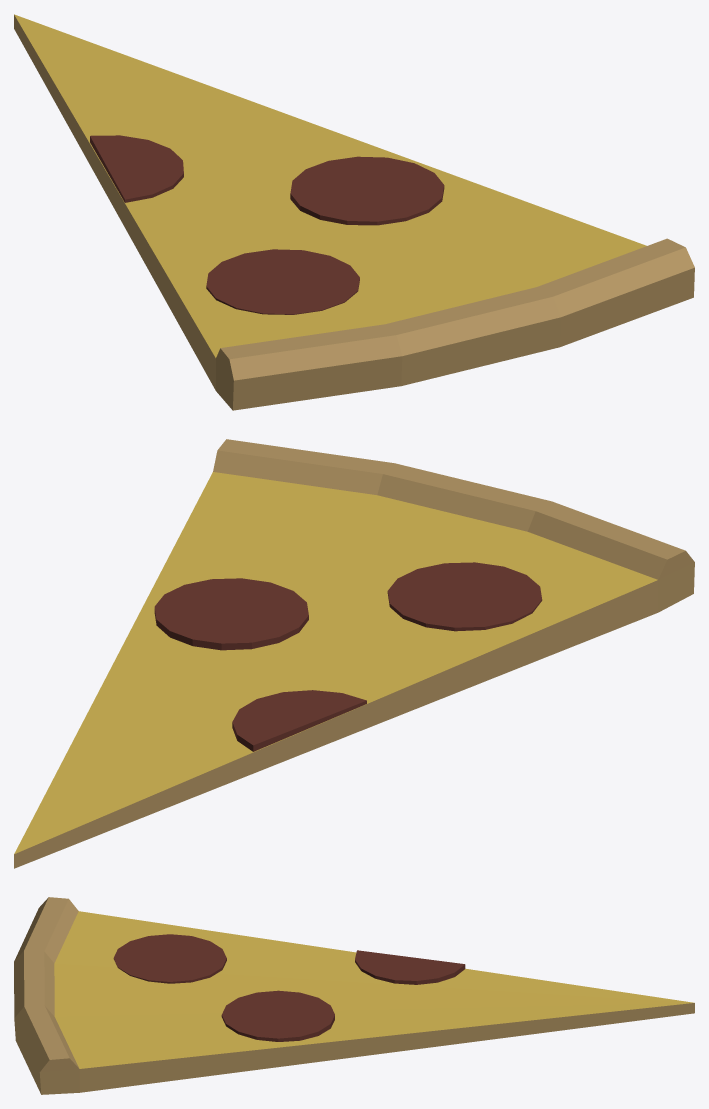
File: PizzaSlice.fbx
3 renders of one model, top to bottom at view 1: azimuth 30°, elevation 25°; view 2: azimuth 150°, elevation 25°; view 3: azimuth 270°, elevation 25°, orthographic. The views are drawn at different scales.
Parts seen in each view (by area): view 1: Cylinder.003; view 2: Cylinder.003; view 3: Cylinder.003.
Part boxes in pixels (left/top/right/bottom): Cylinder.003: left=14, top=14, right=694, bottom=410; Cylinder.003: left=14, top=439, right=694, bottom=868; Cylinder.003: left=14, top=897, right=694, bottom=1094.
Size of the model in its own units: 142 by 14.21 by 248.
